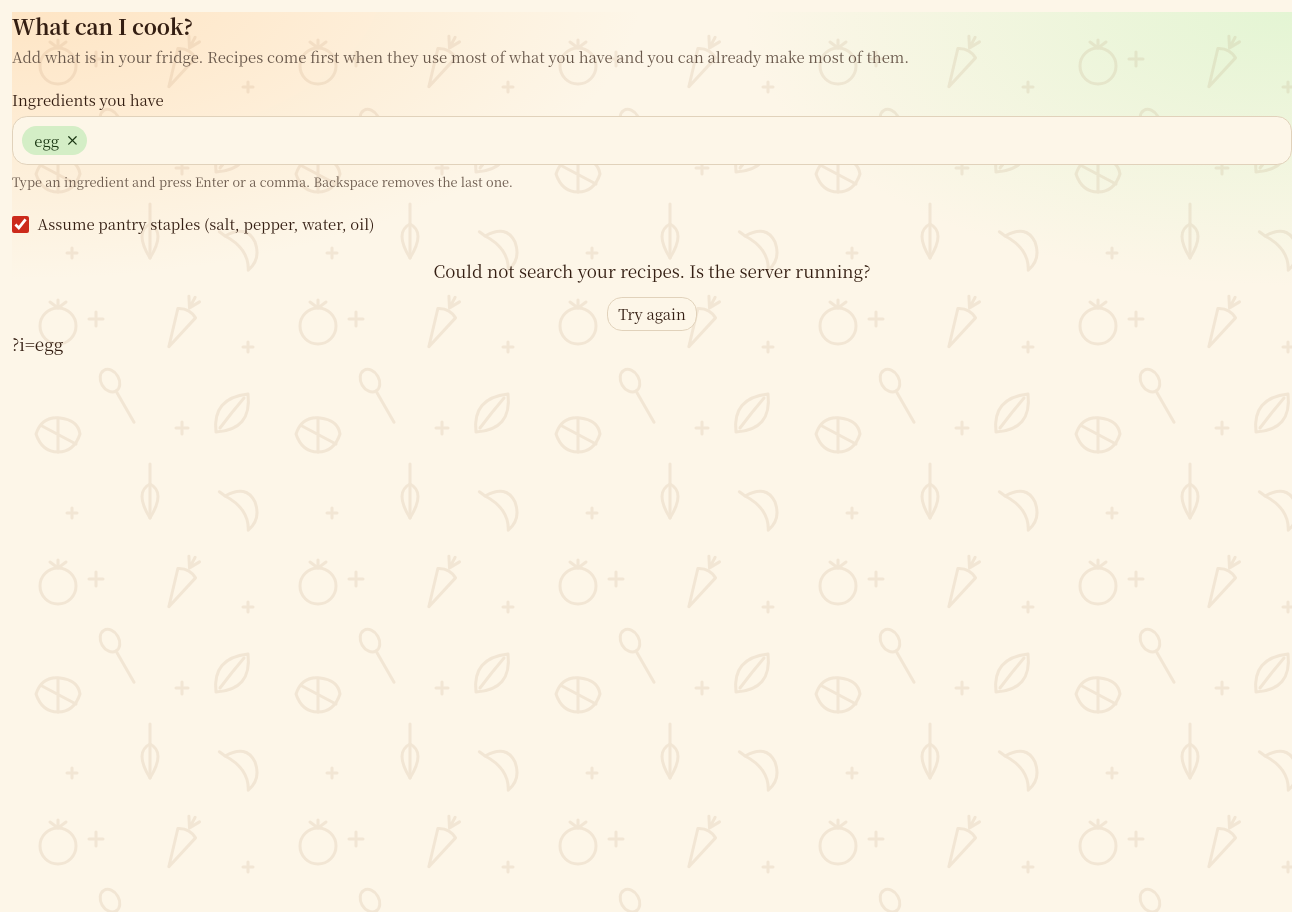
Scenario: MatchPage › shows an error and recovers when the user retries
Check: the message shows "Could not search your recipes", box [434, 258, 870, 283]
Click the button "Try again". click: (652, 314)
box: [606, 297, 697, 331]
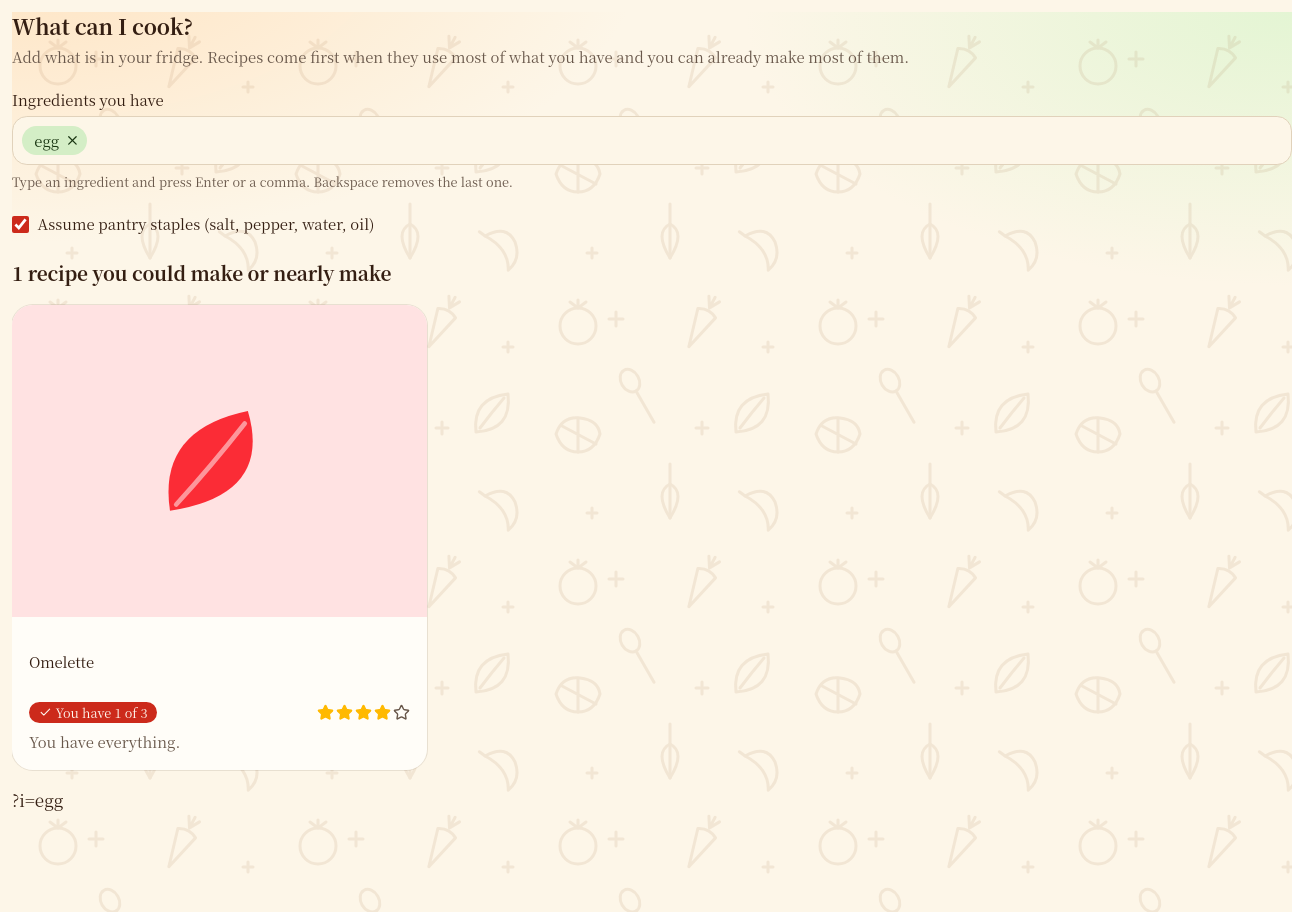
Check: the heading "Omelette" is shown, box [29, 651, 94, 672]
